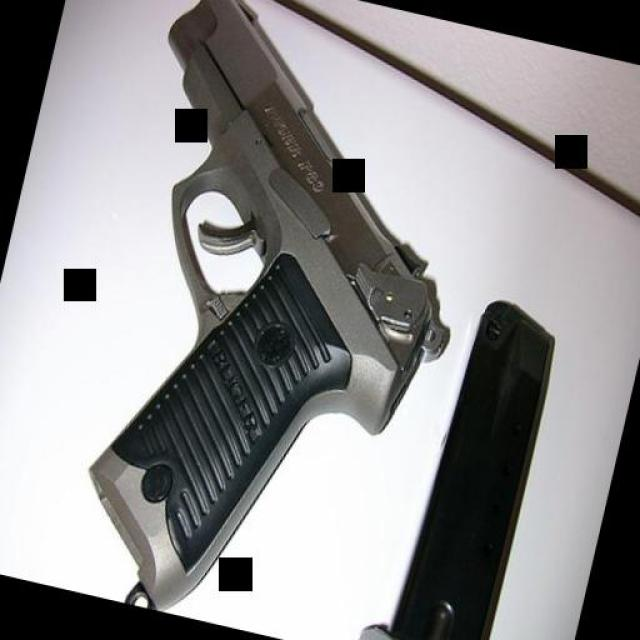gun: (31, 0, 515, 640)
